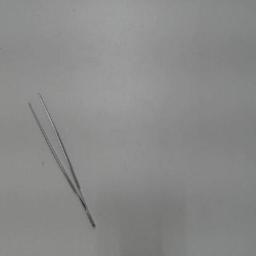Gillies Toothed Dissector: (25, 84, 101, 234)
